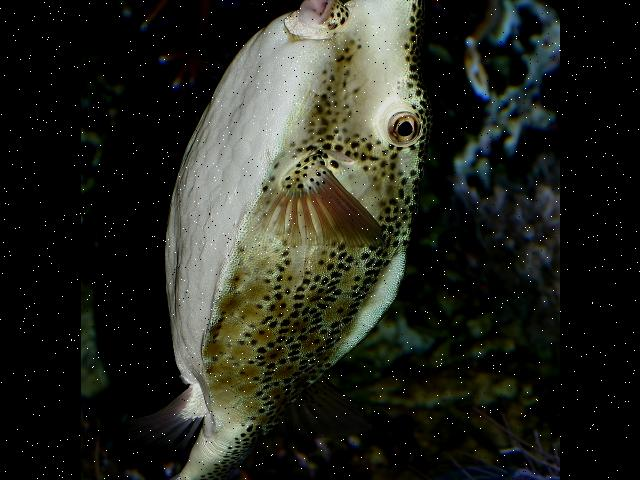Mulut: (271, 0, 369, 57)
Sirip Anal: (108, 363, 230, 469)
Sirip Dada: (225, 145, 402, 277)
Sirip Ekor: (110, 440, 248, 480)
